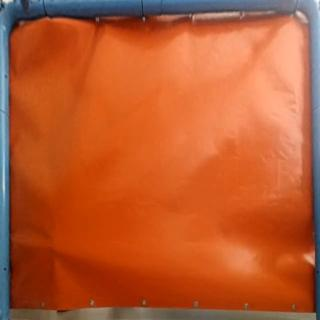Hit-hRxx: (43, 239, 64, 258)
